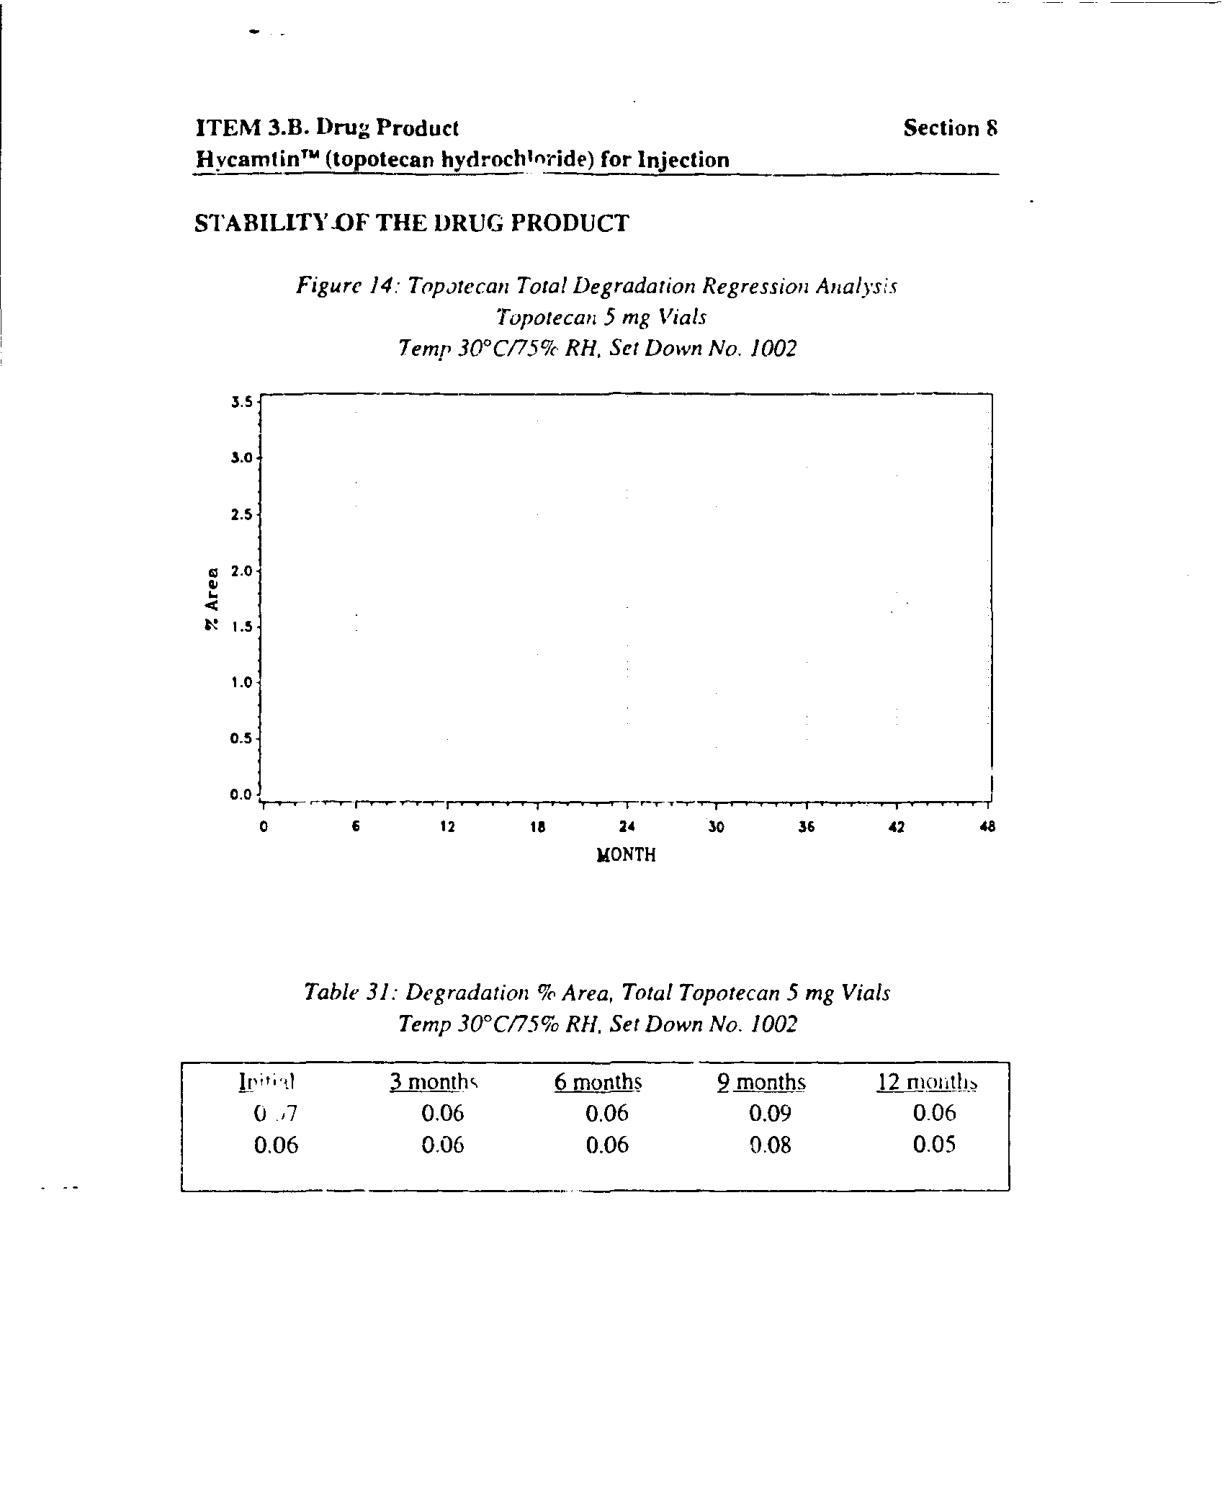partial_lined: (177, 1060, 1013, 1194)
